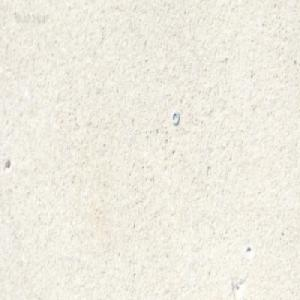Washer: (171, 109, 179, 124)
